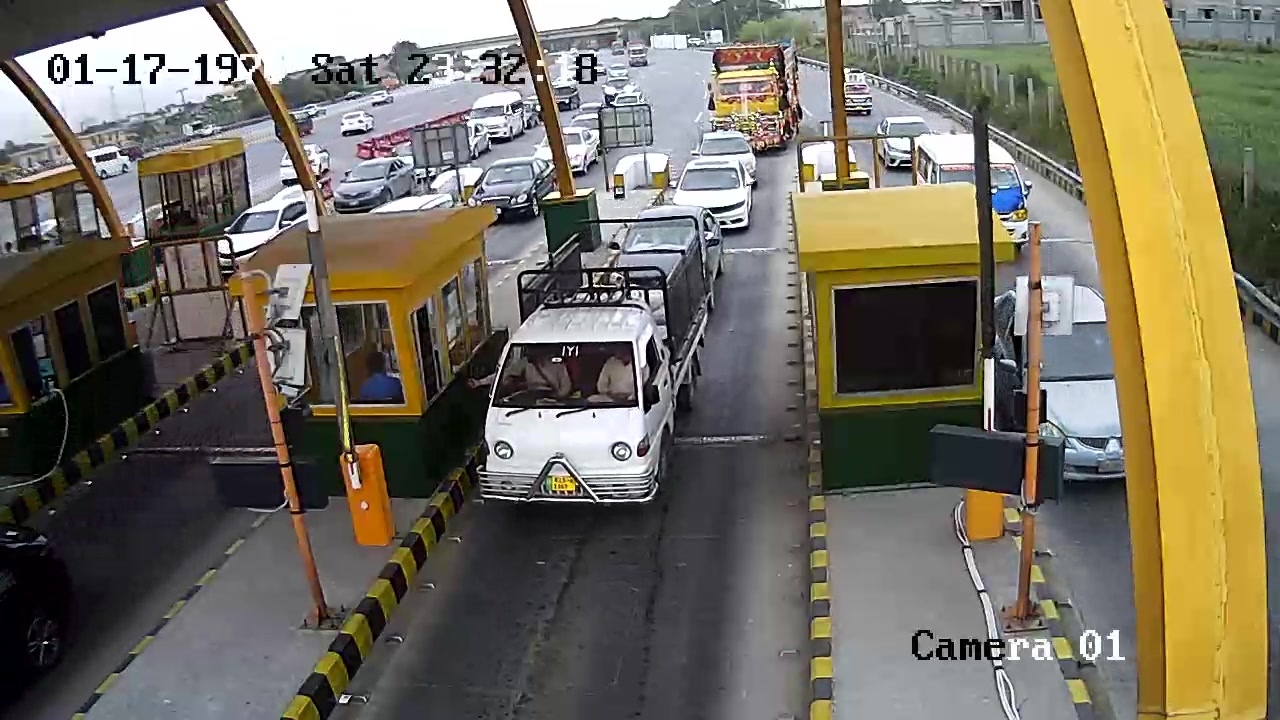F2: (485, 219, 710, 510)
